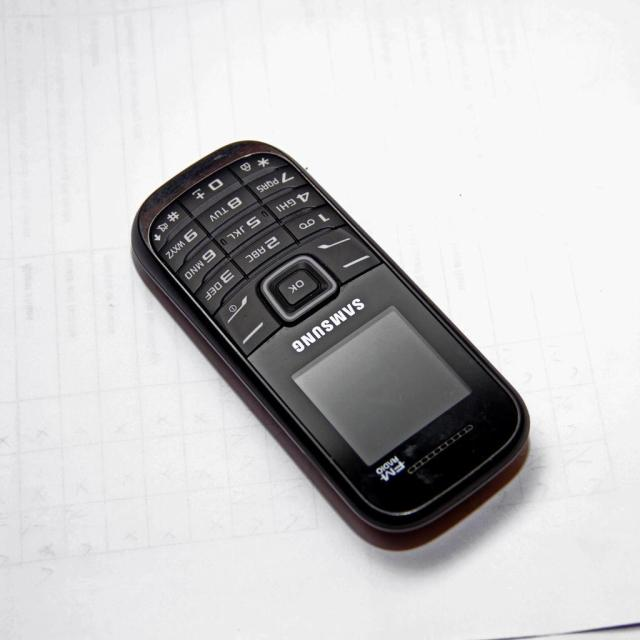Phone: (131, 138, 532, 553)
